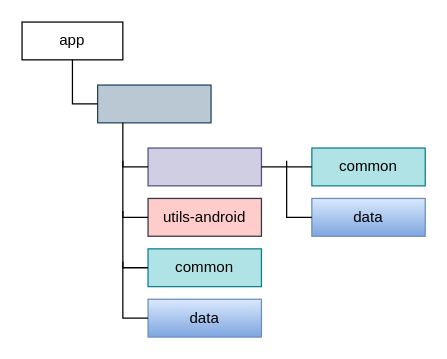
The diagram is 447 pixels wide and 359 high, and some of its shapes have lost their labels. The shapes that lost their labels are listed below. From the top down, each one's box as (x1, y1, x2, y2) in pixels, then its label:
(96, 84, 211, 123): presentation
(147, 147, 261, 186): domain
